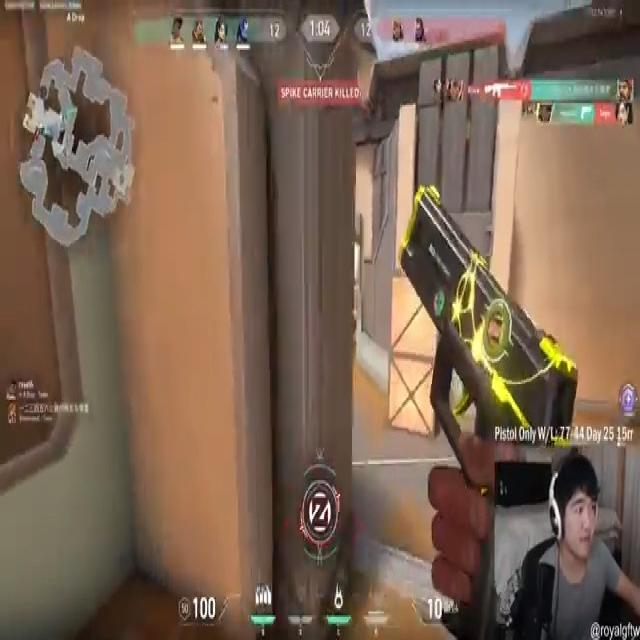gun: (398, 187, 574, 453)
